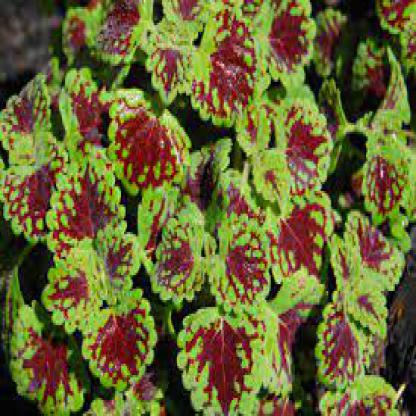Bunga Coleus: (33, 26, 388, 378)
